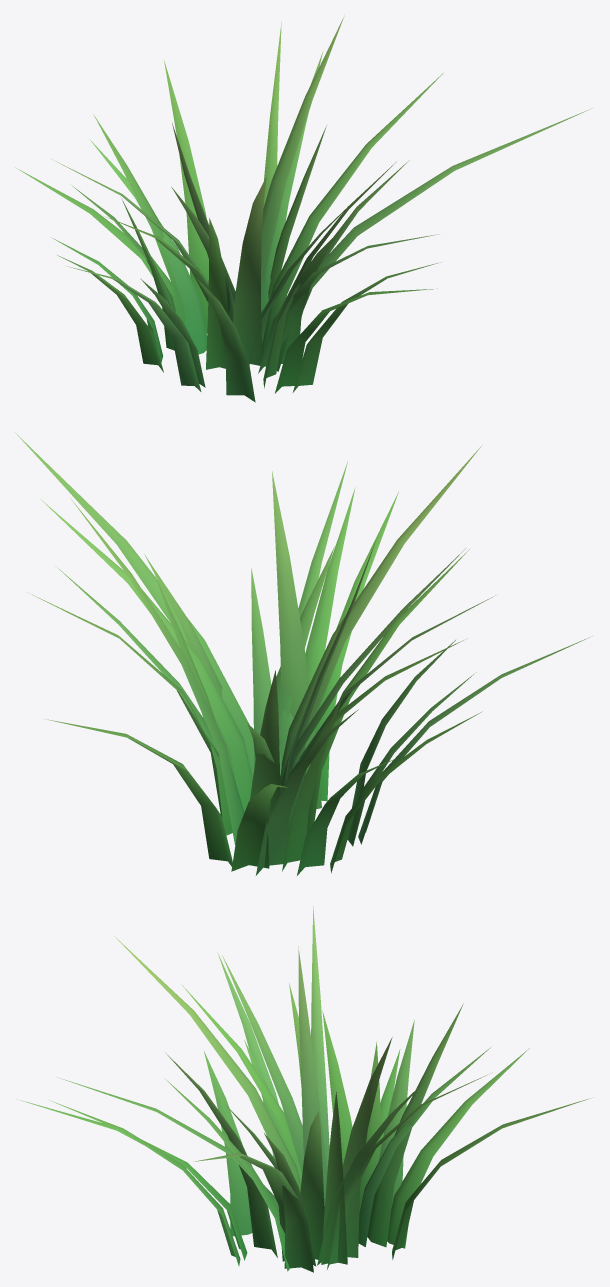
File: verdant_ground_grass_tuft_a.glb
3 renders of one model, top to bottom at view 1: azimuth 30°, elevation 25°; view 2: azimuth 150°, elevation 25°; view 3: azimuth 270°, elevation 25°, orthographic. The views are drawn at different scales.
Parts seen in each view (by area): view 1: verdant_ground_grass_tuft_a; view 2: verdant_ground_grass_tuft_a; view 3: verdant_ground_grass_tuft_a.
Boxes of the visible parts, x1=… form: verdant_ground_grass_tuft_a: x1=15, y1=16, x2=592, y2=402; verdant_ground_grass_tuft_a: x1=15, y1=432, x2=592, y2=875; verdant_ground_grass_tuft_a: x1=17, y1=906, x2=590, y2=1272.
Bounding box in the file's own units: 1.47 × 0.7736 × 1.43.
